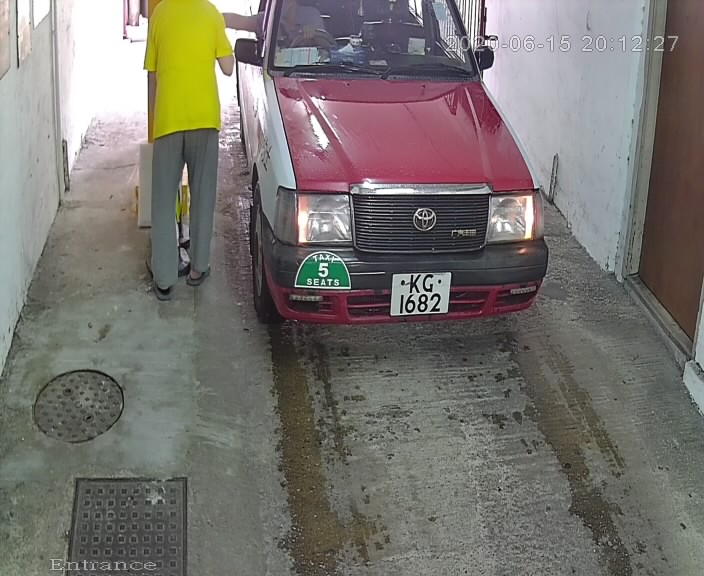taxi: (290, 246, 361, 302)
taxi_mark: (214, 2, 556, 357)
